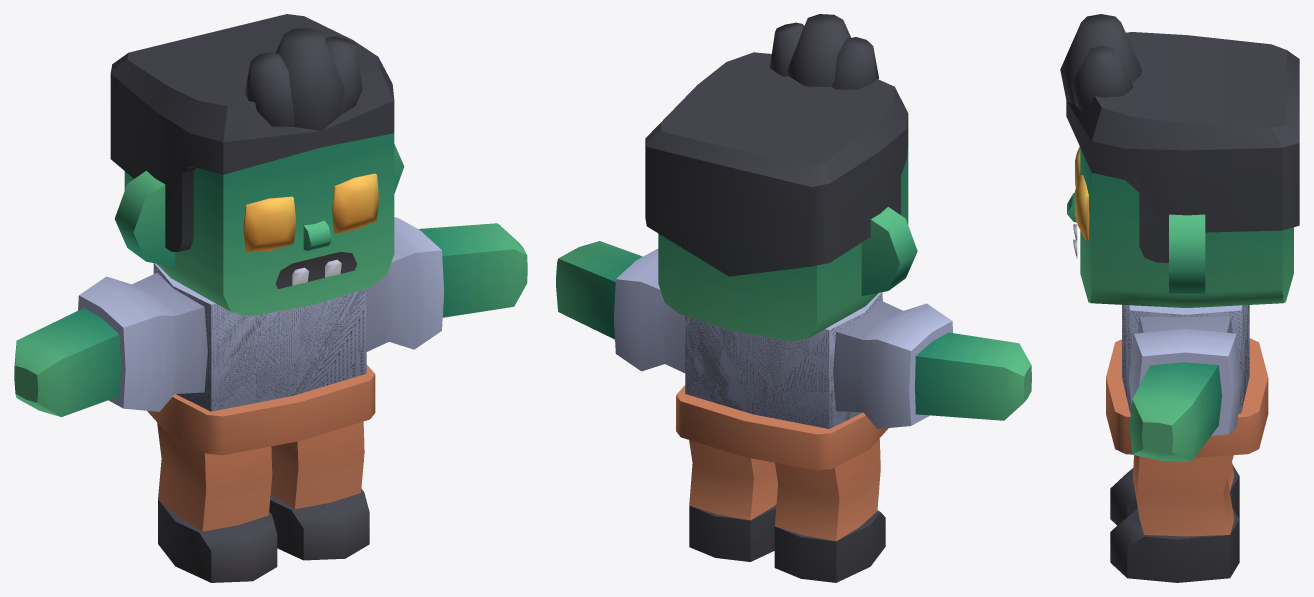
File: grave.character_zombie.glb
3 views of the same model, side by side, from view 1: azimuth 30°, elevation 25°; view 2: azimuth 150°, elevation 25°; view 3: azimuth 270°, elevation 25° (orthographic). The views are drawn at different scales.
Parts seen in each view (by area): view 1: head, torso, arm-right, leg-right, arm-left, leg-left; view 2: head, torso, arm-right, leg-right, arm-left, leg-left; view 3: head, arm-left, leg-left, torso, leg-right.
Boxes of the visible parts, x1,y1,x2,y2 form: head: [110, 14, 404, 316]; torso: [147, 263, 375, 455]; arm-right: [14, 272, 207, 416]; leg-right: [157, 422, 277, 582]; arm-left: [366, 217, 527, 351]; leg-left: [269, 421, 369, 560]; head: [645, 14, 917, 341]; torso: [676, 292, 888, 470]; arm-right: [833, 300, 1031, 428]; leg-right: [774, 439, 885, 582]; arm-left: [556, 241, 685, 372]; leg-left: [689, 440, 777, 561]; head: [1060, 14, 1299, 307]; arm-left: [1129, 316, 1241, 461]; leg-left: [1110, 455, 1239, 582]; torso: [1106, 305, 1268, 457]; leg-right: [1110, 462, 1239, 525].
Bounding box in the file's own units: 1.94 × 1.97 × 0.8246.
Materials: 1 (1 with a texture image).
